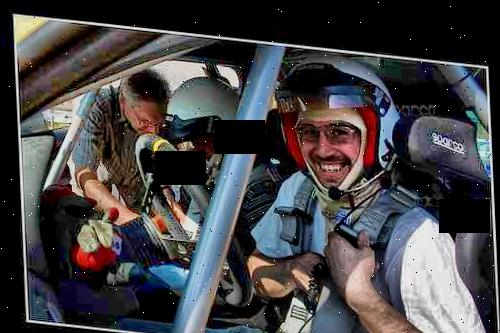seatbelt: (304, 176, 416, 313)
